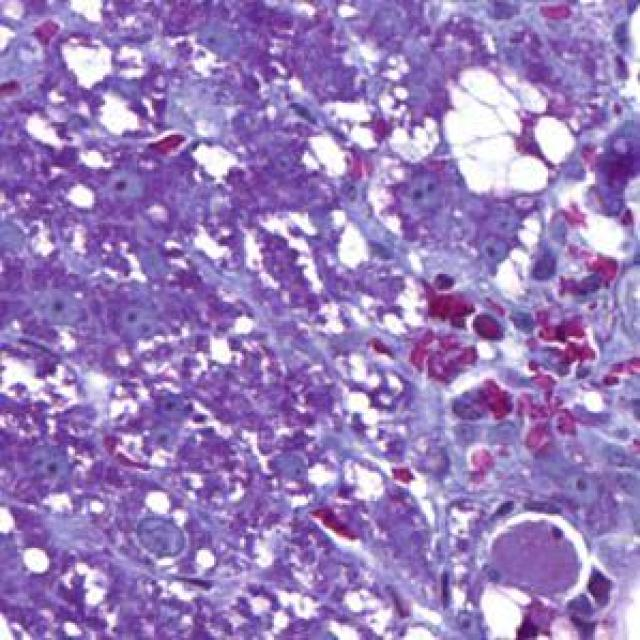ballooning: (437, 60, 582, 205)
